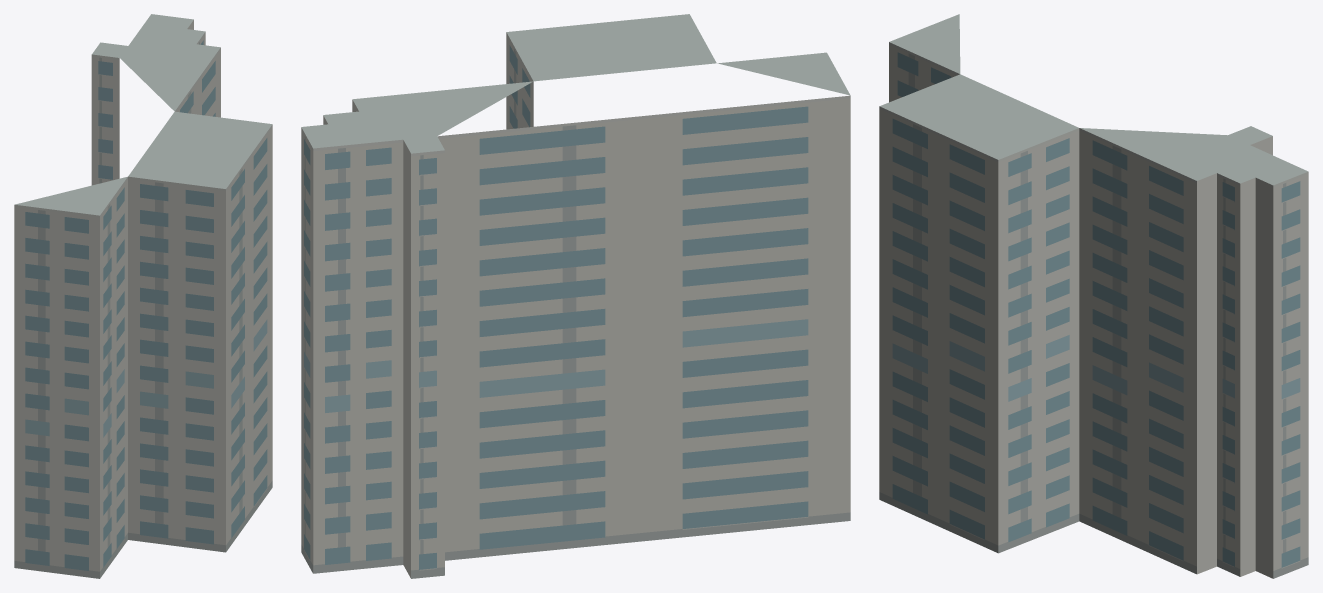
The model's file is residential-a531f0b4-d04c-4b2c-ac96-02951043f0fd.glb.
3 views of the same model, side by side, from view 1: azimuth 30°, elevation 25°; view 2: azimuth 150°, elevation 25°; view 3: azimuth 270°, elevation 25° (orthographic). The views are drawn at different scales.
Parts seen in each view (by area): view 1: residential-a531f0b4-d04c-4b2c-ac96-02951043f0fd.tmp; view 2: residential-a531f0b4-d04c-4b2c-ac96-02951043f0fd.tmp; view 3: residential-a531f0b4-d04c-4b2c-ac96-02951043f0fd.tmp.
Part boxes in pixels (x1,y1,x2,y2): residential-a531f0b4-d04c-4b2c-ac96-02951043f0fd.tmp: [14, 14, 272, 578]; residential-a531f0b4-d04c-4b2c-ac96-02951043f0fd.tmp: [301, 14, 850, 578]; residential-a531f0b4-d04c-4b2c-ac96-02951043f0fd.tmp: [879, 14, 1308, 578].
Bounding box in the file's own units: 37.4 × 40 × 39.55.
